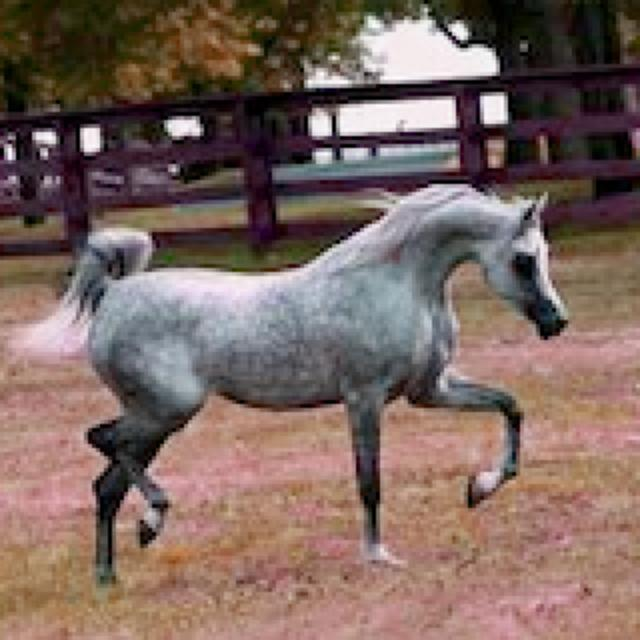Horse: (16, 172, 576, 588)
